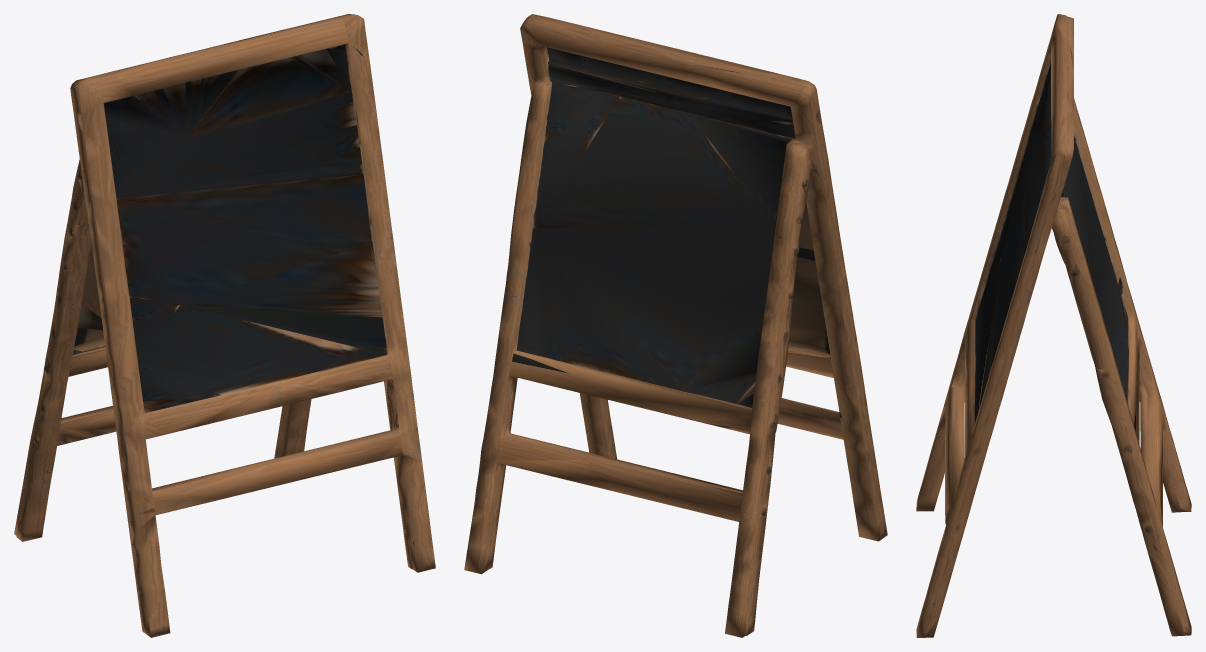
File: easel.glb
The picture shows the model from 3 angles, left to right: view 1: azimuth 30°, elevation 25°; view 2: azimuth 150°, elevation 25°; view 3: azimuth 270°, elevation 25°; orthographic projection. The views are drawn at different scales.
Parts seen in each view (by area): view 1: Mesh_0; view 2: Mesh_0; view 3: Mesh_0.
Part boxes in pixels (x1,y1,x2,y2): Mesh_0: (14,14,435,637); Mesh_0: (464,14,887,637); Mesh_0: (916,14,1191,637).
Bounding box in the file's own units: 0.6571 × 1.1 × 0.5583.
Materials: 1 (1 with a texture image).
